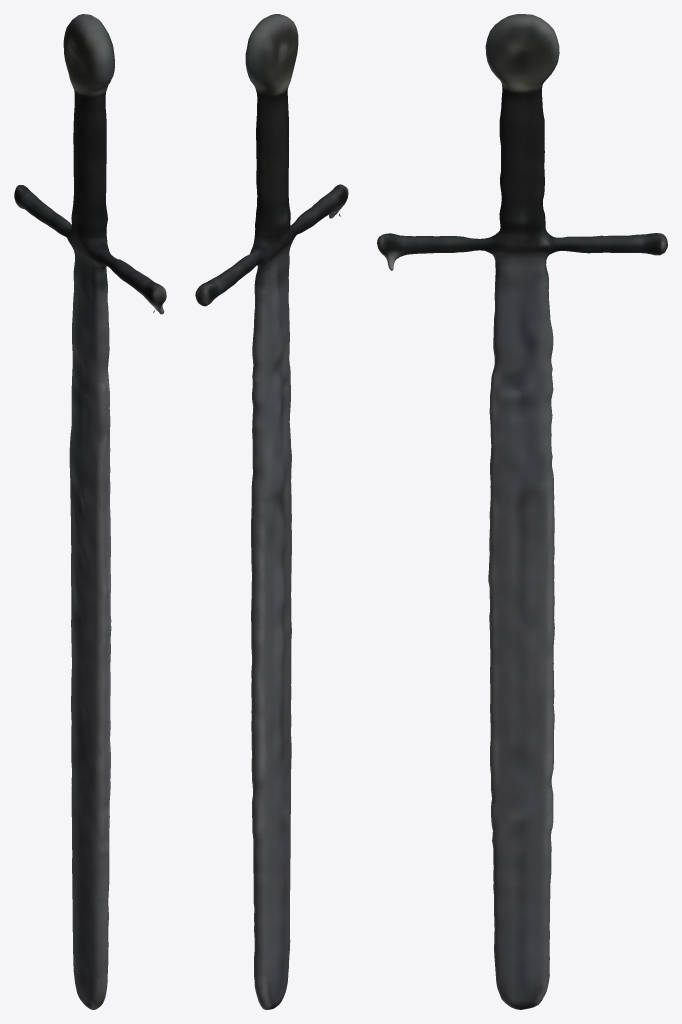
Rendered from 60868c1c08b3_medieval_sword__3d_.fbx.
3 views of the same model, side by side, from view 1: azimuth 30°, elevation 25°; view 2: azimuth 150°, elevation 25°; view 3: azimuth 270°, elevation 25° (orthographic).
Visible parts, largest first — view 1: mesh; view 2: mesh; view 3: mesh.
Boxes of the visible parts, x1=… form: mesh: x1=14, y1=14, x2=166, y2=1009; mesh: x1=195, y1=14, x2=348, y2=1009; mesh: x1=377, y1=14, x2=667, y2=1009.
Bounding box in the file's own units: 3.22 × 99.81 × 26.49.
